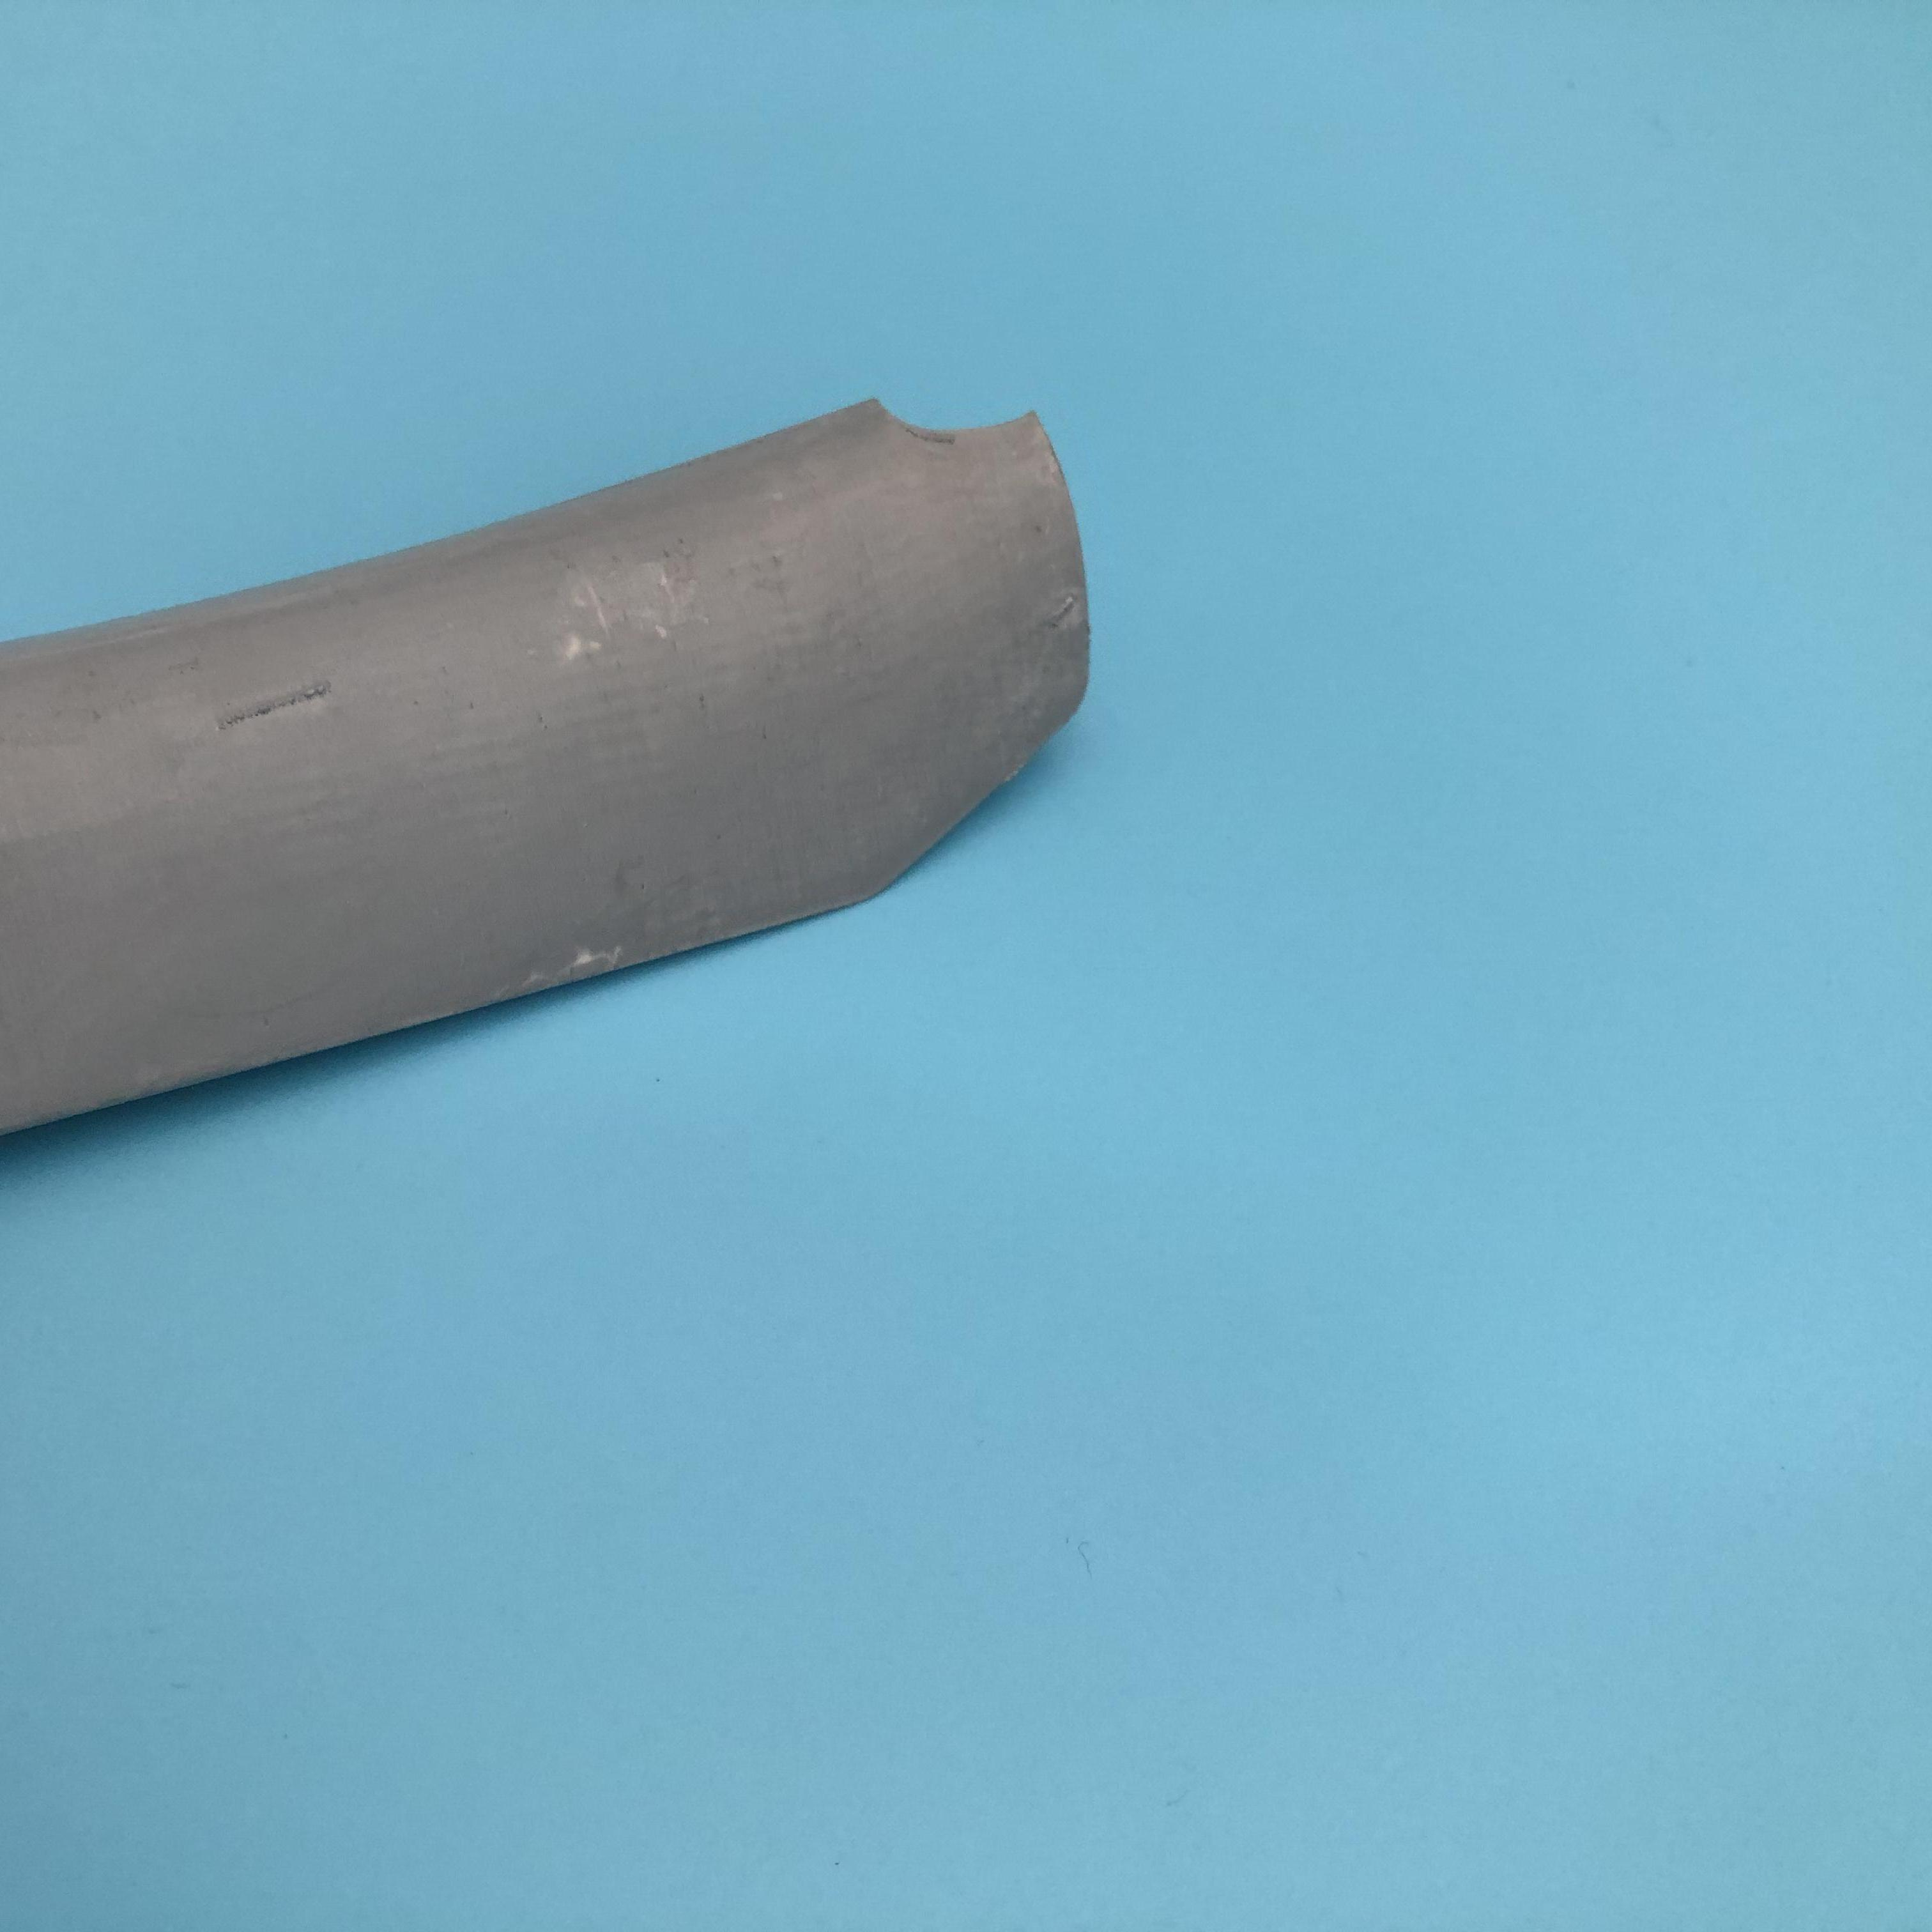fracture: (853, 382, 1053, 465)
